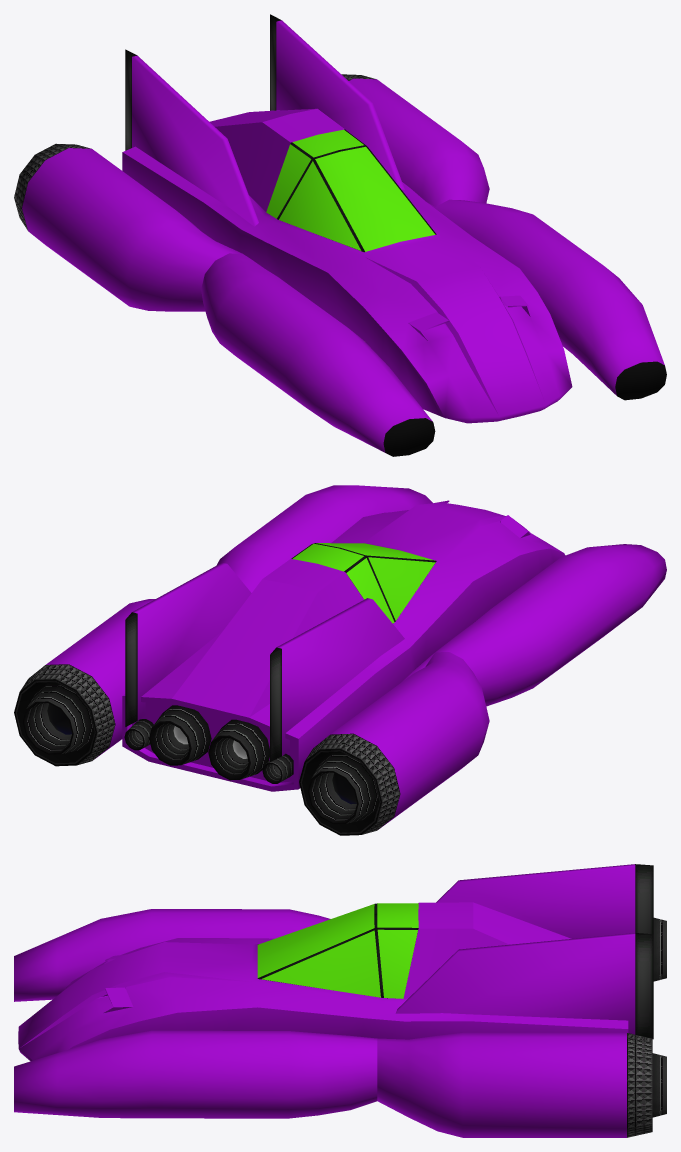
The model's file is Hot_Violet 1.fbx.
The picture shows the model from 3 angles, top to bottom: view 1: azimuth 30°, elevation 25°; view 2: azimuth 150°, elevation 25°; view 3: azimuth 270°, elevation 25°; orthographic projection. The views are drawn at different scales.
Visible parts, largest first — view 1: body.007, body.002; view 2: body.007, body.002; view 3: body.007, body.002.
Boxes of the visible parts, bbox=[...] form: body.007: bbox=[122, 14, 572, 423]; body.002: bbox=[14, 74, 666, 456]; body.007: bbox=[122, 500, 565, 791]; body.002: bbox=[14, 485, 666, 835]; body.007: bbox=[18, 864, 653, 1061]; body.002: bbox=[14, 909, 666, 1137].
Bounding box in the file's own units: 273 × 117 × 418.
